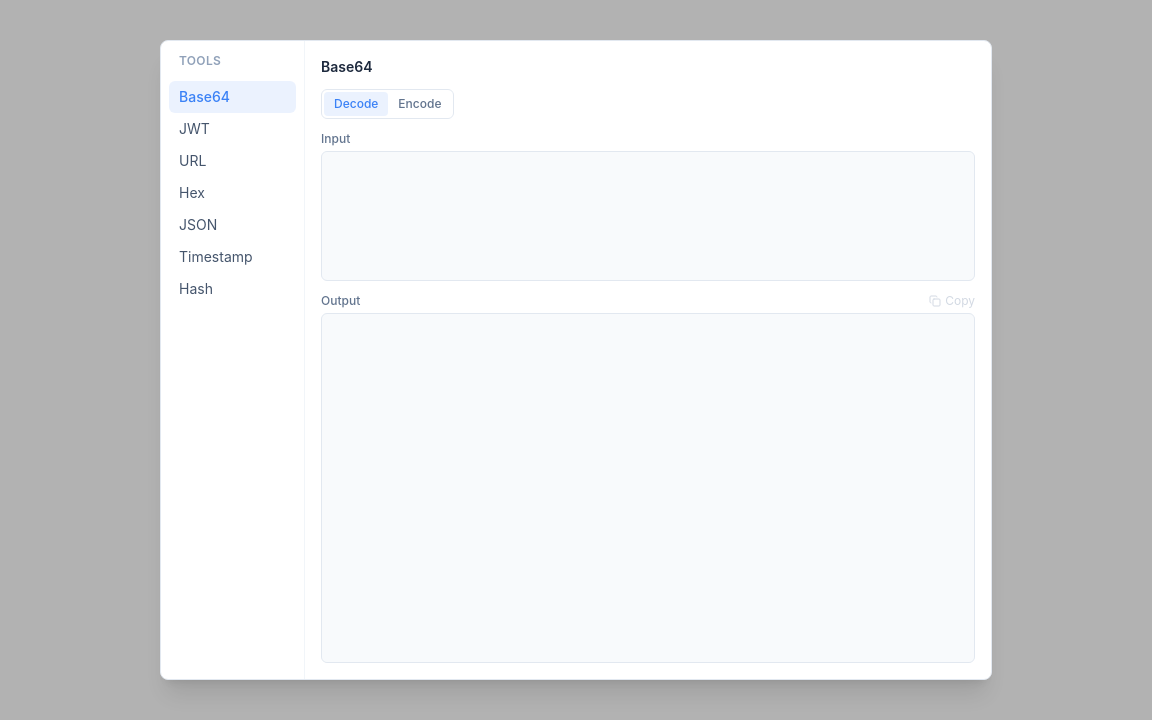
Test case: ToolsDialog › switches to JWT tab and decodes token
This screenshot has width=1152, height=720.
Step 1. Click the button "JWT" → (232, 129), box [169,113,296,145]
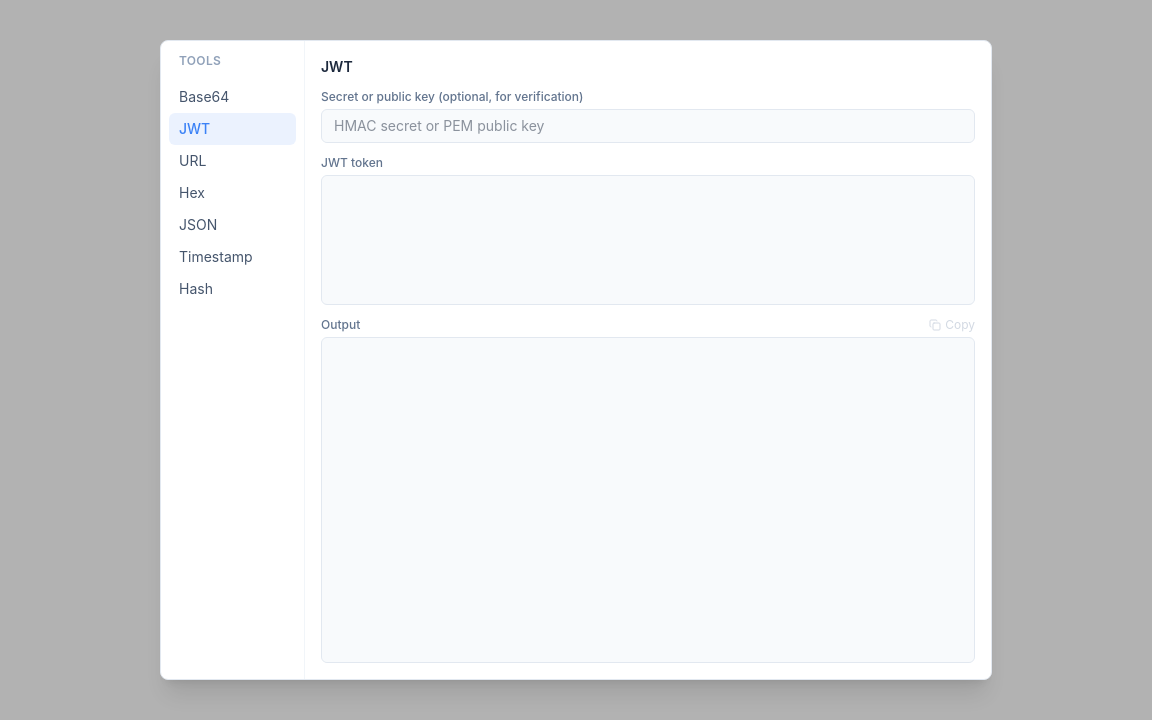
Step 2. Type "eyJhbGciOiJIUzI1NiIsInR5cCI6IkpXVCJ9.eyJzdWIiOiIxMjM0NTY3ODkwIiwibmFtZSI6IkpvaG4gRG9lIiwiaWF0IjoxNTE2MjM5MDIyfQ.SflKxwRJSMeKKF2QT4fwpMeJf36POk6yJV_adQssw5c" into the text box labelled "JWT token" → (648, 240), box [321,175,975,305]
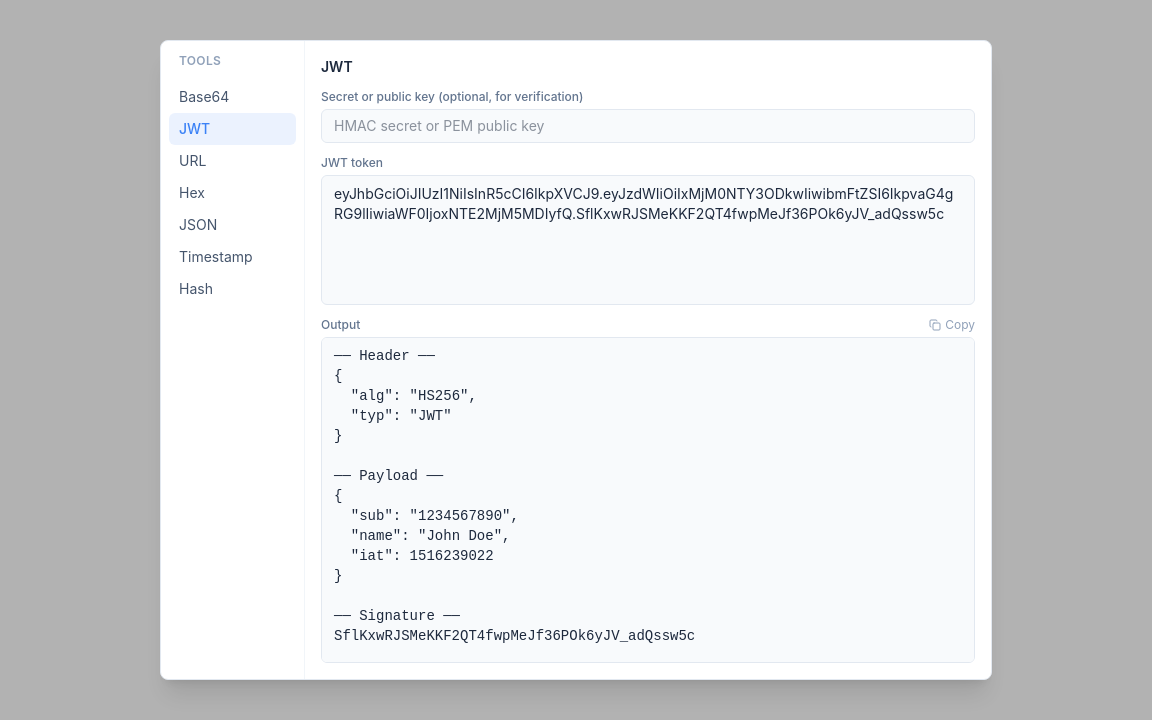
Now the text "HS256" is shown, box [334,348,695,663]
